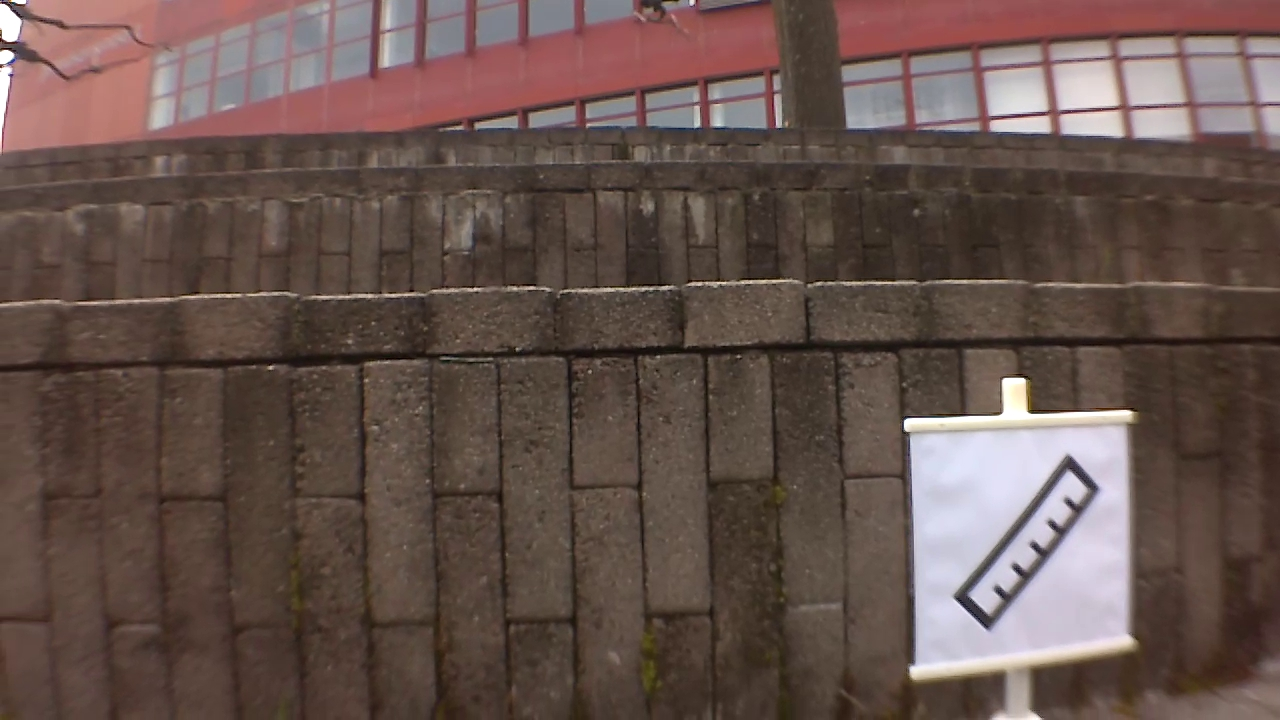ruler: (949, 451, 1105, 631)
